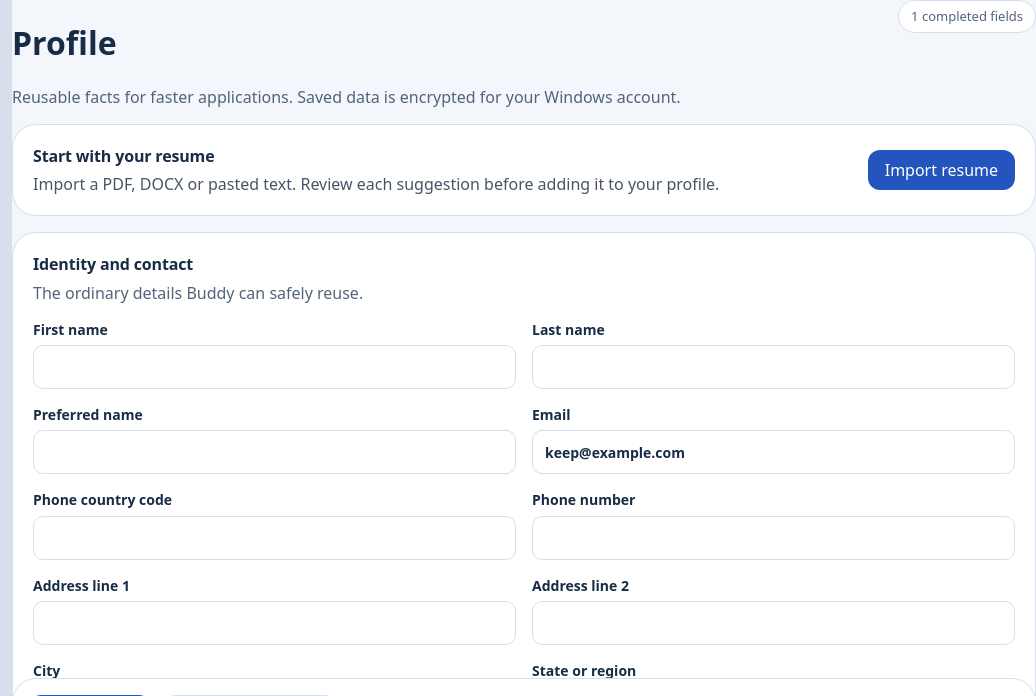
Test: ProfilePage › requires an explicit selection for replacement and permits editing before applying
Click the button "Import resume" at [941, 170], box [868,150,1015,190]
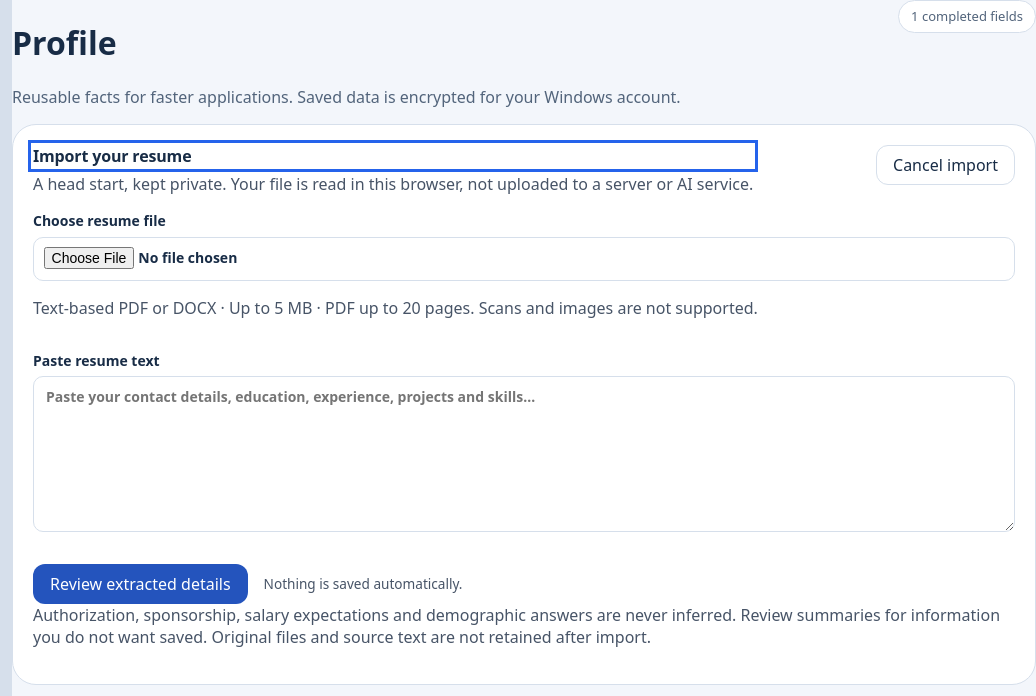
Type "alex@example.com" into the text box labelled "Paste resume text" at [524, 454], box [33,376,1015,532]
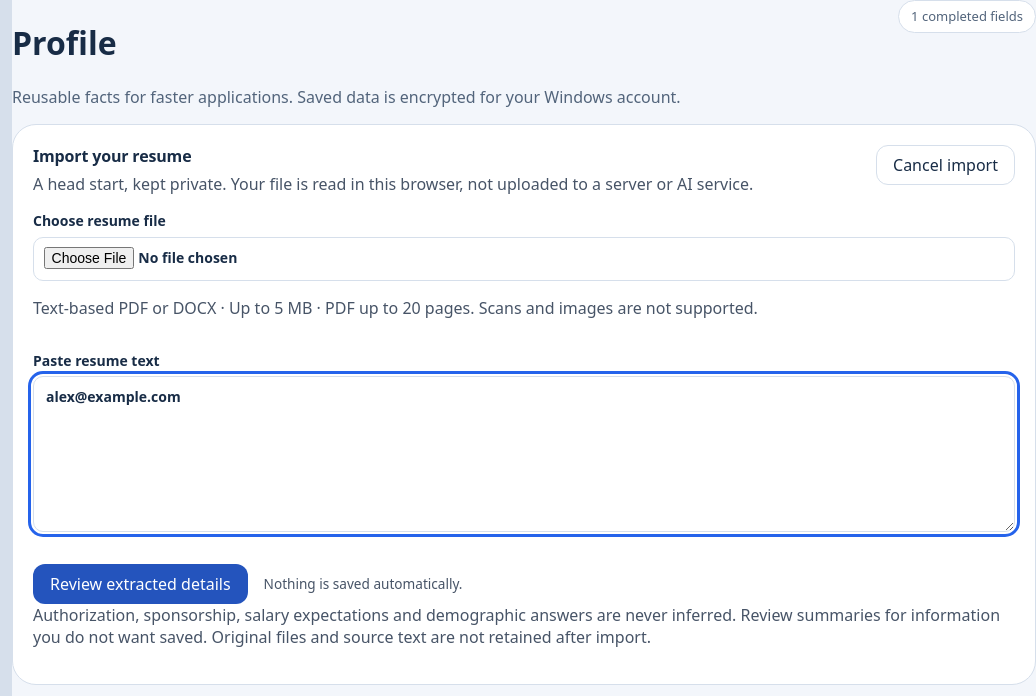
Click the button "Review extracted details" at [140, 584], box [33,564,248,604]
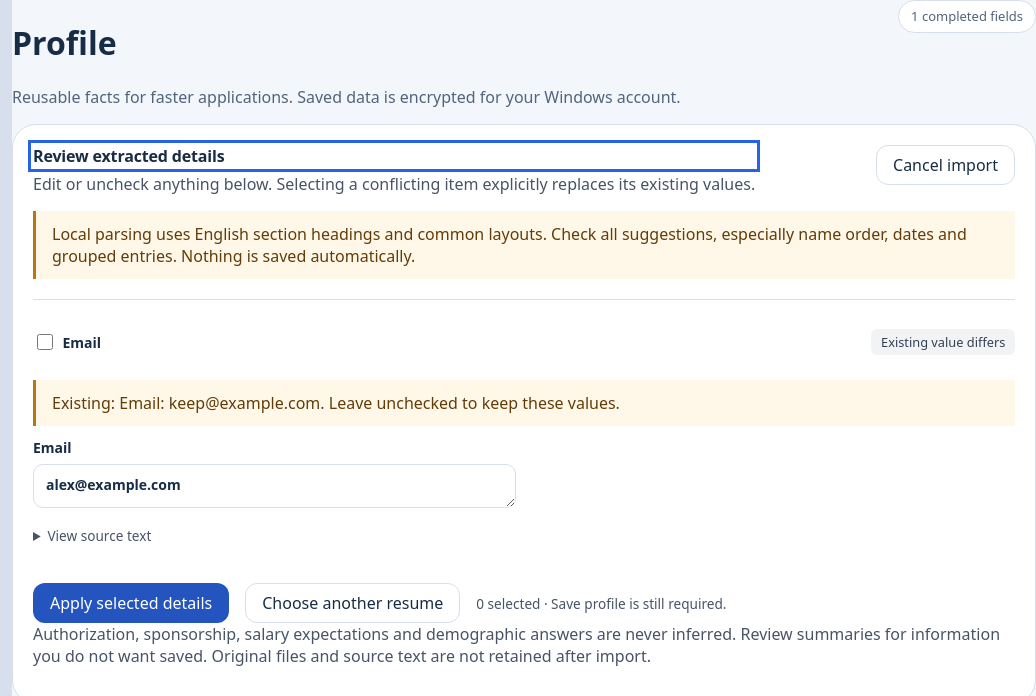
Replace the text in the text box named "Suggested Email" with "edited@example.com" at [274, 486], box [33,464,516,508]
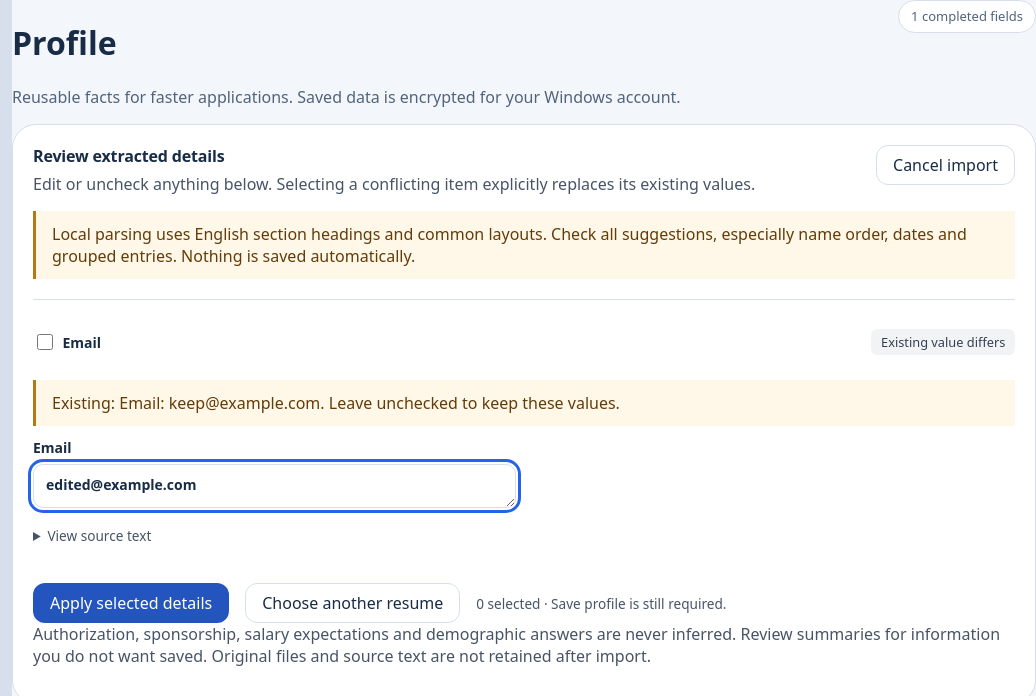
Result: the button "Apply selected details" is disabled at [33,583,229,623]
Click the checkbox named "Include Email" at [45, 342], box [37,334,53,350]
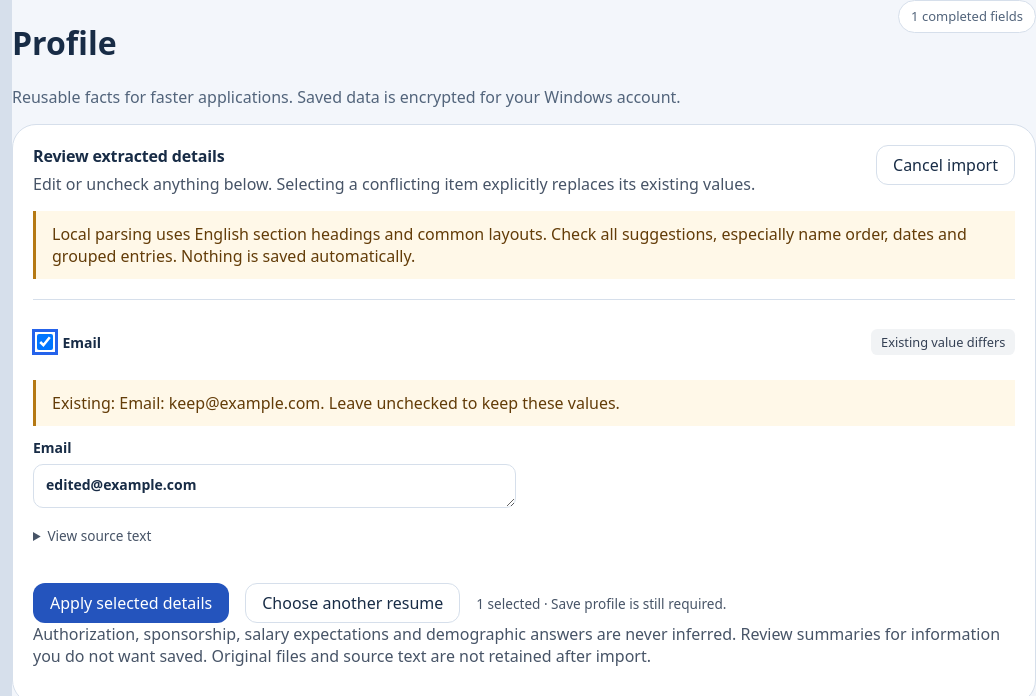
Click the button "Apply selected details" at [131, 603], box [33,583,229,623]
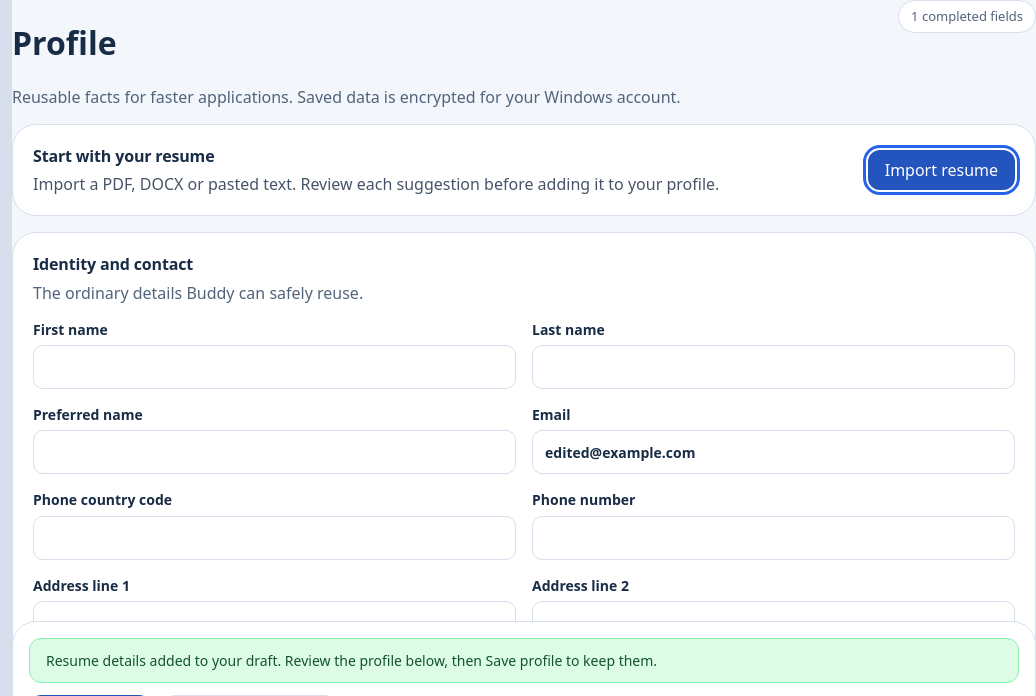
Result: the field labelled "Email" holds "edited@example.com" at [532,430,1015,474]
